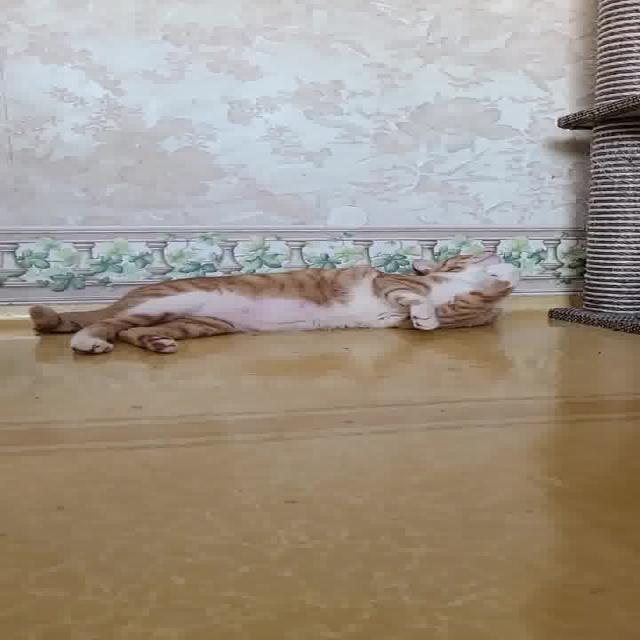cat: (18, 248, 527, 360)
